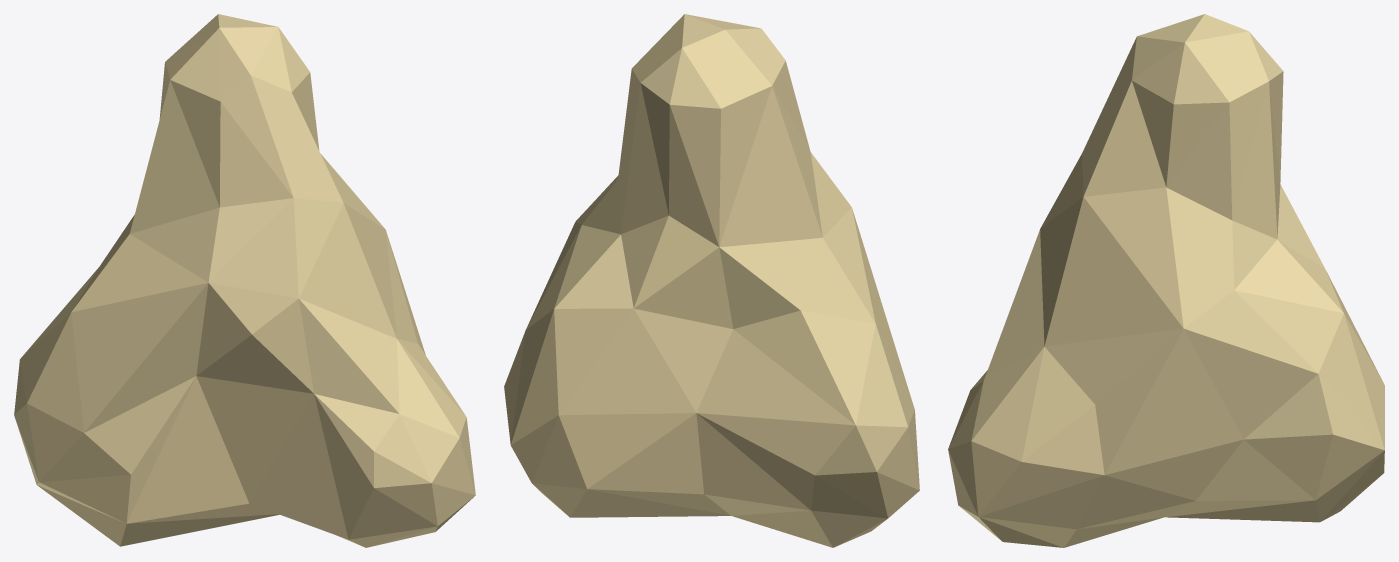
File: Rock (25).fbx
3 renders of one model, left to right at view 1: azimuth 30°, elevation 25°; view 2: azimuth 150°, elevation 25°; view 3: azimuth 270°, elevation 25°, orthographic. The views are drawn at different scales.
Parts seen in each view (by area): view 1: Asteroid24; view 2: Asteroid24; view 3: Asteroid24.
Part boxes in pixels (<box>): Asteroid24: <box>14,14,475,547</box>; Asteroid24: <box>504,14,919,547</box>; Asteroid24: <box>948,14,1384,547</box>.
Size of the model in its own units: 143 by 183 by 150.
